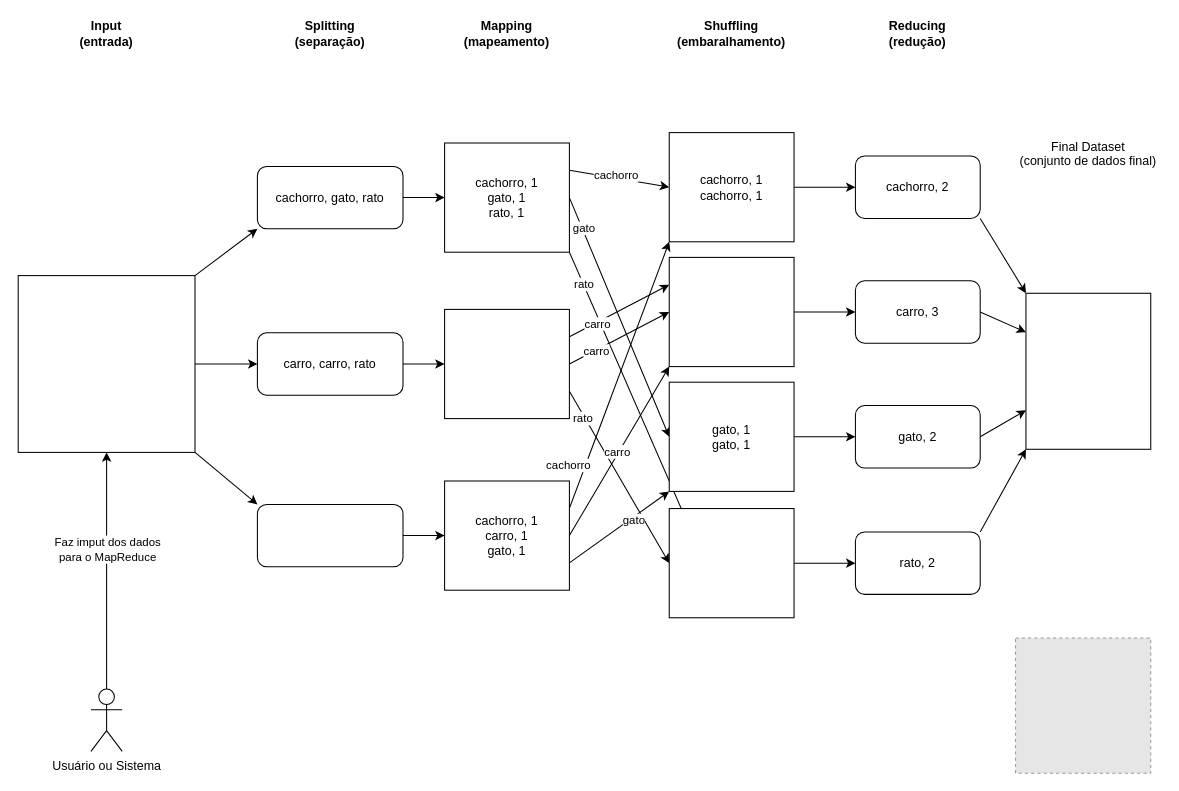
The diagram is 1179 pixels wide and 791 high, and some of its shapes have lost their labels. Grey dashed boxes stand in for pictures. The shapes that lost their labels are listed below. From the top down, each one's centre as x and y in pixels, then its label:
point (731, 311): carro, 1 carro, 1 carro, 1
point (106, 363): cachorro, gato, rato, carro, carro, rato, cachorro, carro, gato
point (506, 363): carro, 1 carro, 1 rato, 1
point (1088, 370): carro, 3 gato, 2, cachorro, 2 rato, 2
point (329, 535): cachorro, carro, gato
point (731, 563): rato, 1 rato, 1
